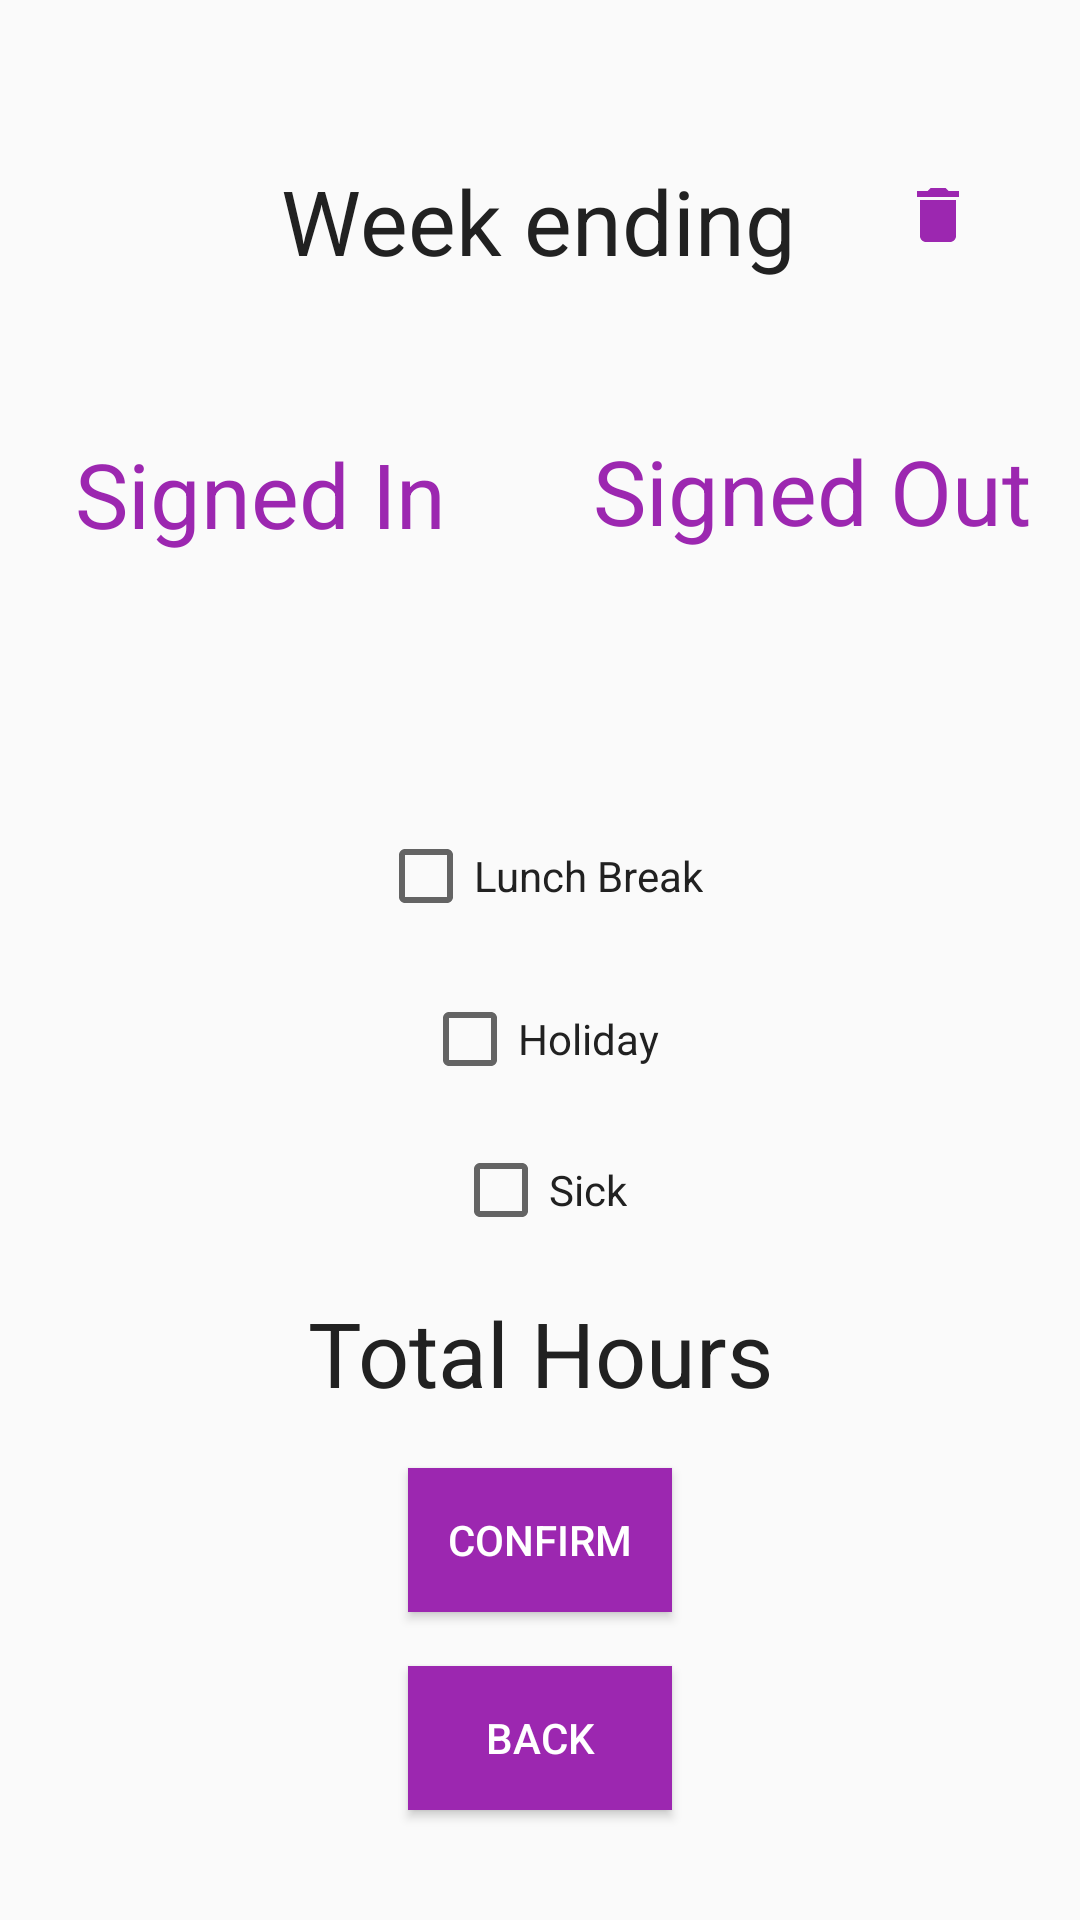

Icon bounding boxes for this 1080*1920 phone screenshot, format (x1, y1, x2, y2):
delete: (917, 188, 959, 242)
